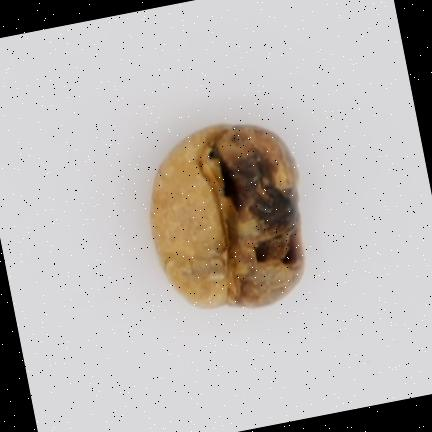partial-black: (150, 125, 304, 307)
